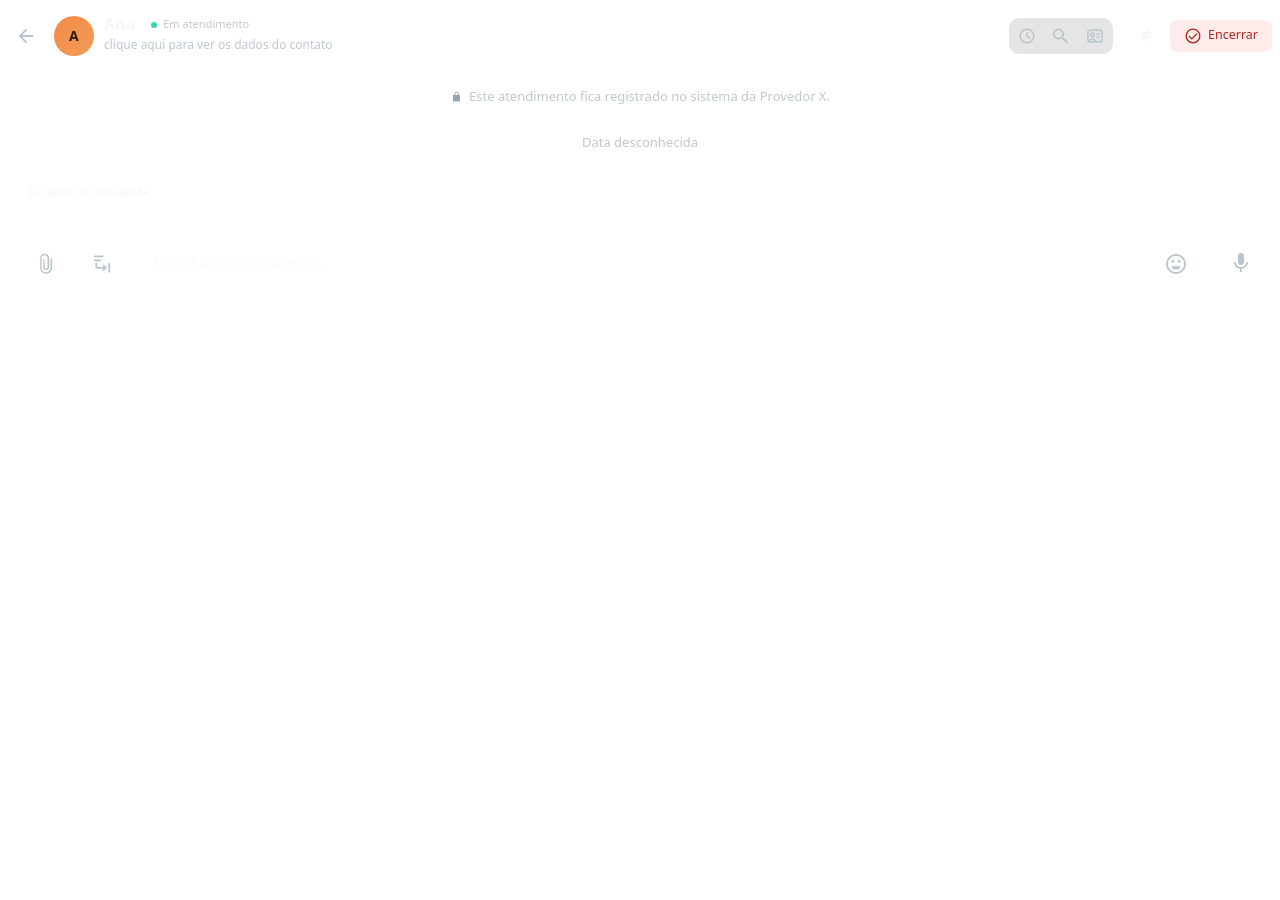
Test: ConversationView › mostra apenas os dados disponíveis do cliente no painel contextual
Step 1. Click the button named "Dados do cliente" → (1095, 36), box [1079,20,1111,52]
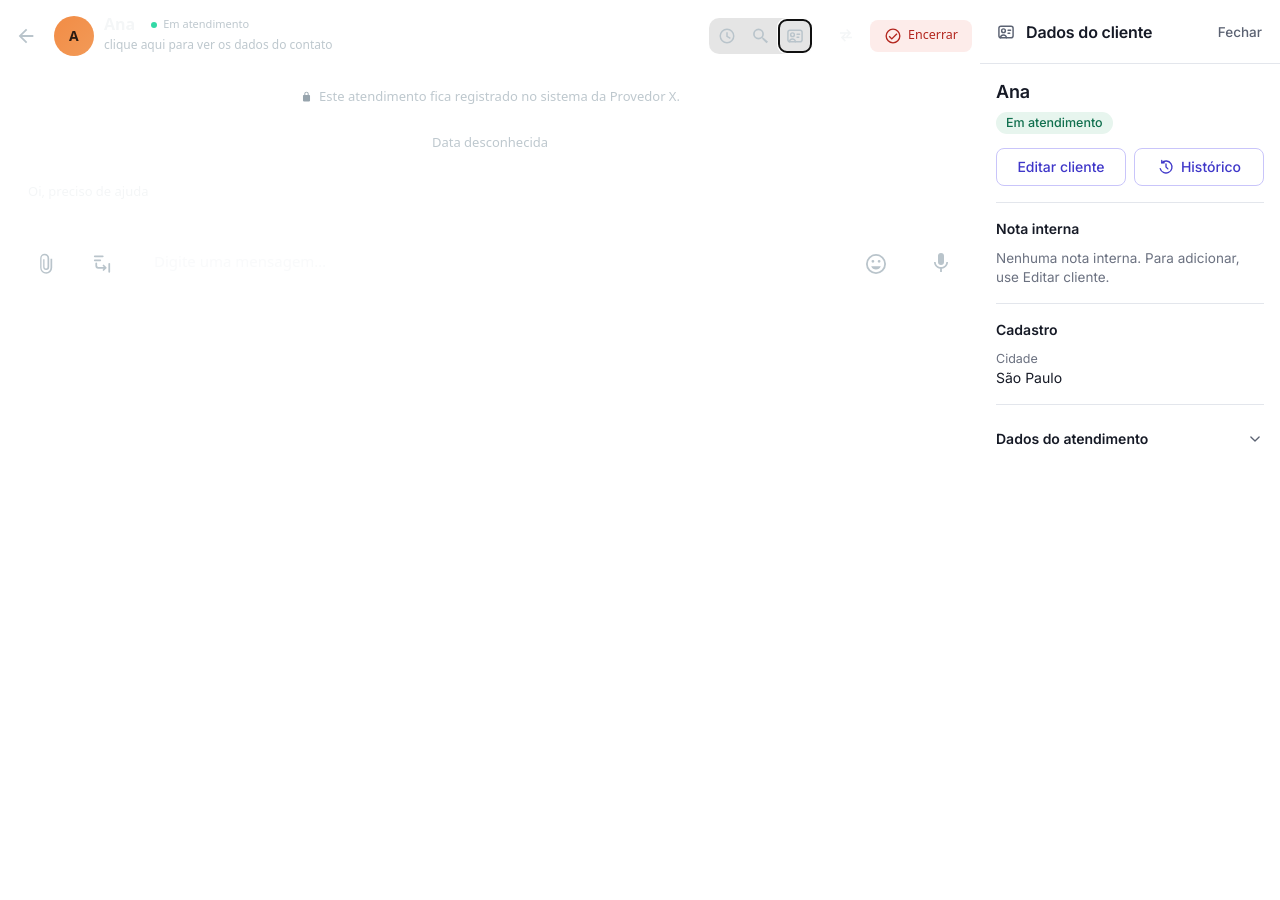
Expected: the text "São Paulo" is shown, [996,369,1062,386]
Note: Setor e protocolo já estão na faixa da conversa: ficam recolhidos.
Step 2. Click the button "Dados do atendimento" → (1130, 439), box [996,421,1264,457]
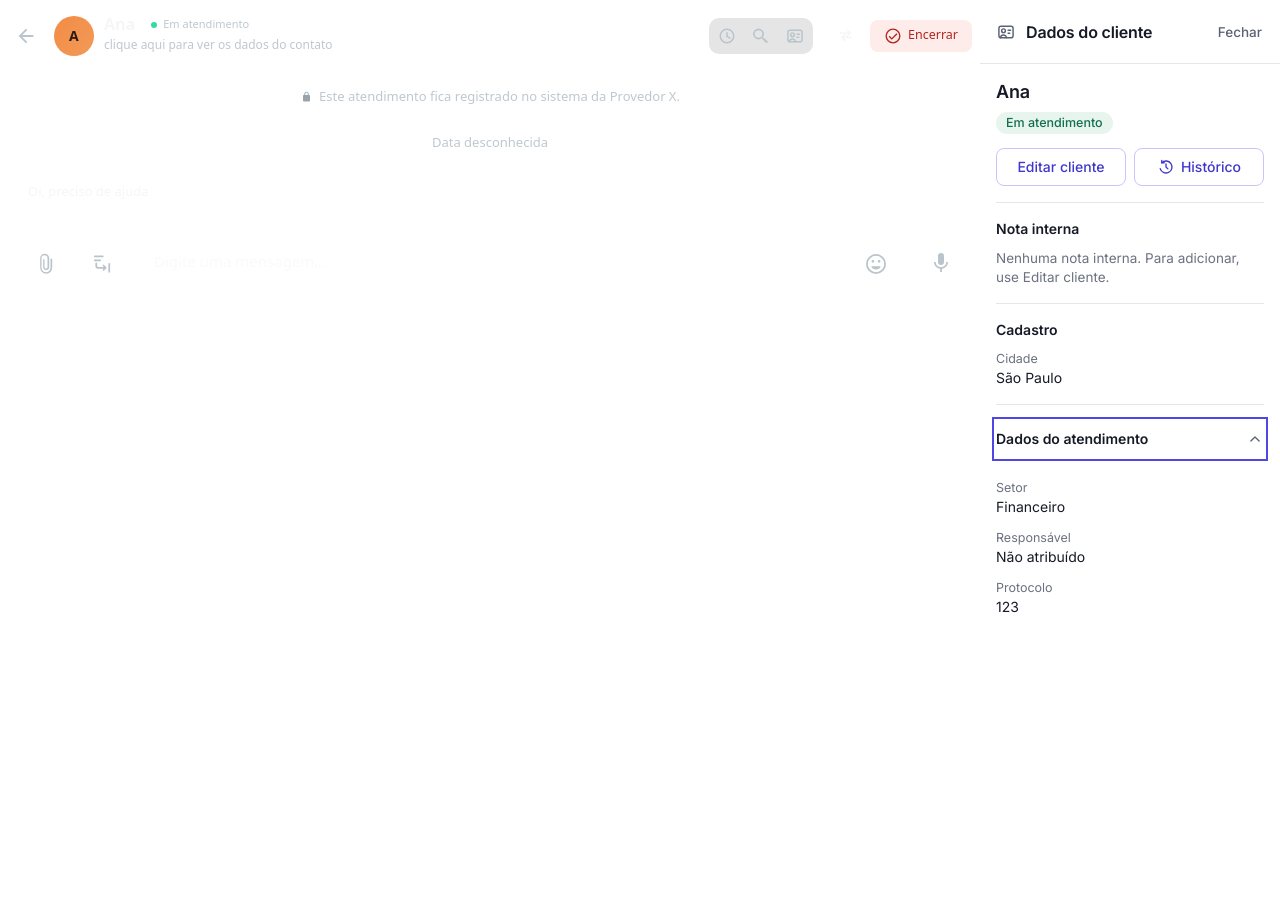
Expected: the text "Financeiro" is shown, [996,498,1065,515]
Expected: the text "123" is shown, [996,598,1019,615]
